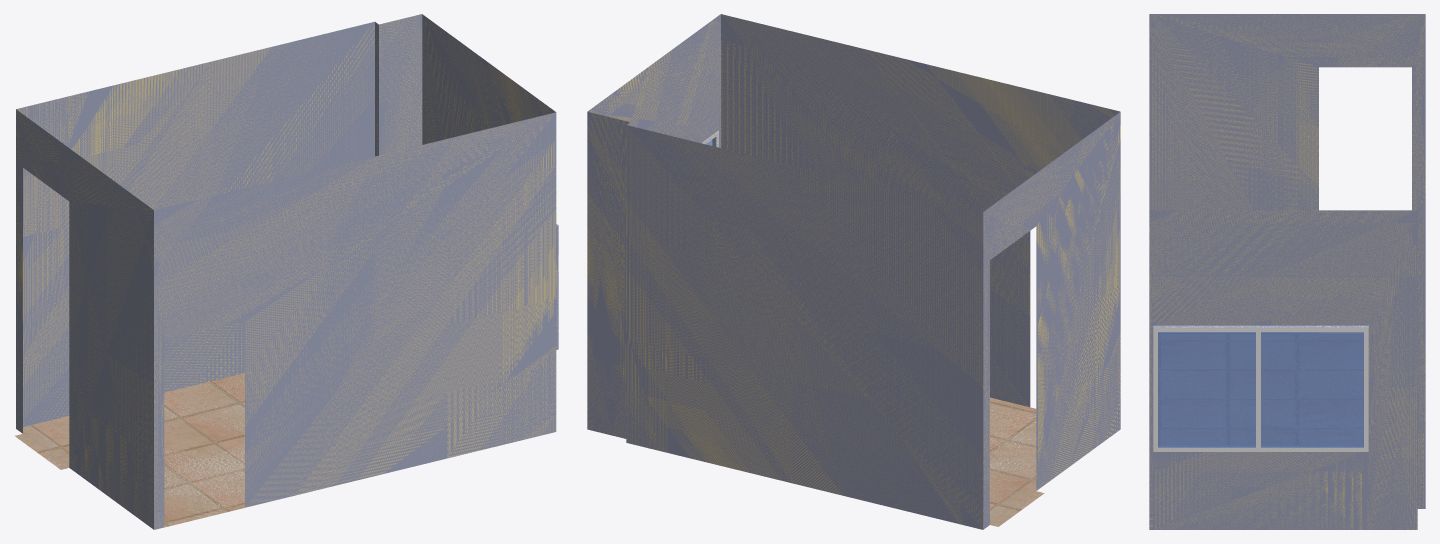
Rendered from DES009.obj.
3 views of the same model, side by side, from view 1: azimuth 30°, elevation 25°; view 2: azimuth 150°, elevation 25°; view 3: azimuth 270°, elevation 25° (orthographic).
Parts seen in each view (by area): view 1: Mesh6 DES009 Model; view 2: Mesh6 DES009 Model; view 3: Mesh6 DES009 Model, Mesh1 ventana2_1 DES009 Model.
Boxes of the visible parts, bbox=[...] form: Mesh6 DES009 Model: bbox=[15, 14, 556, 529]; Mesh6 DES009 Model: bbox=[587, 14, 1120, 529]; Mesh6 DES009 Model: bbox=[1149, 14, 1425, 529]; Mesh1 ventana2_1 DES009 Model: bbox=[1153, 325, 1368, 451].
Bounding box in the file's own units: 4.89 × 3.6 × 2.82.
Materials: 8 (2 with a texture image).
